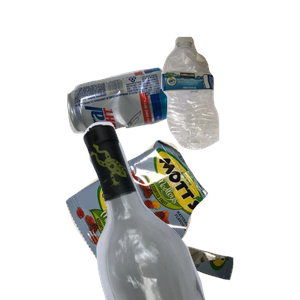glass: (81, 120, 300, 300)
metal: (65, 65, 231, 192)
plastic: (159, 34, 300, 176)
trash: (63, 137, 289, 300)
